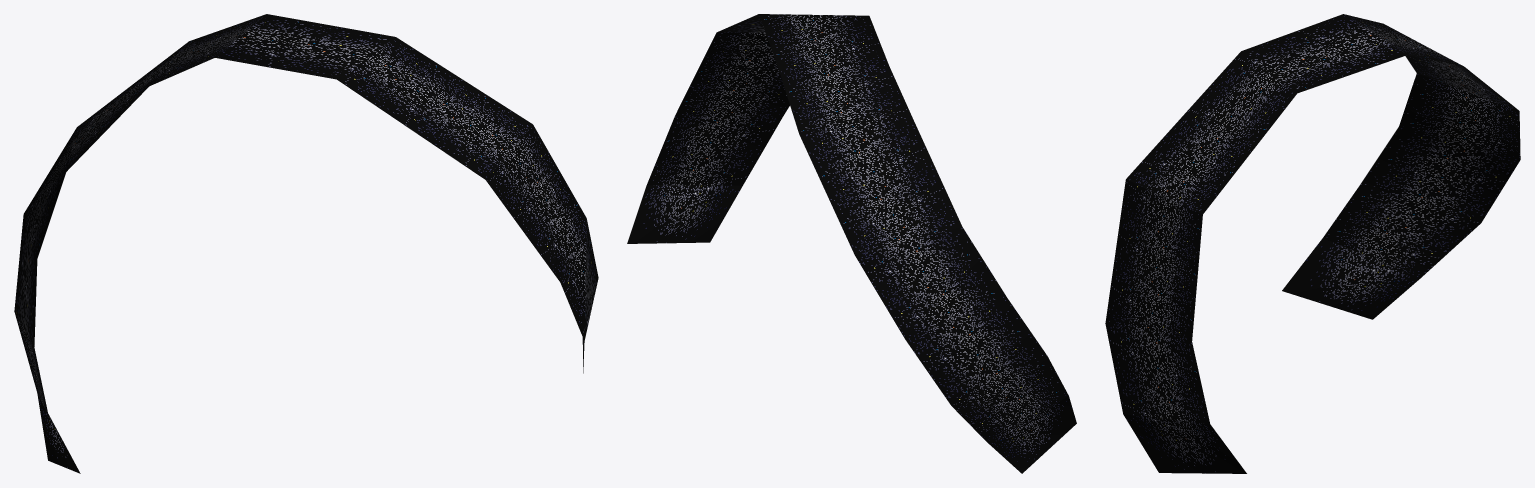
File: Pass3.obj
3 renders of one model, left to right at view 1: azimuth 30°, elevation 25°; view 2: azimuth 150°, elevation 25°; view 3: azimuth 270°, elevation 25°, orthographic. The views are drawn at different scales.
Size of the model in its own units: 6286 by 4554 by 4492.
Materials: 2 (2 with a texture image).
